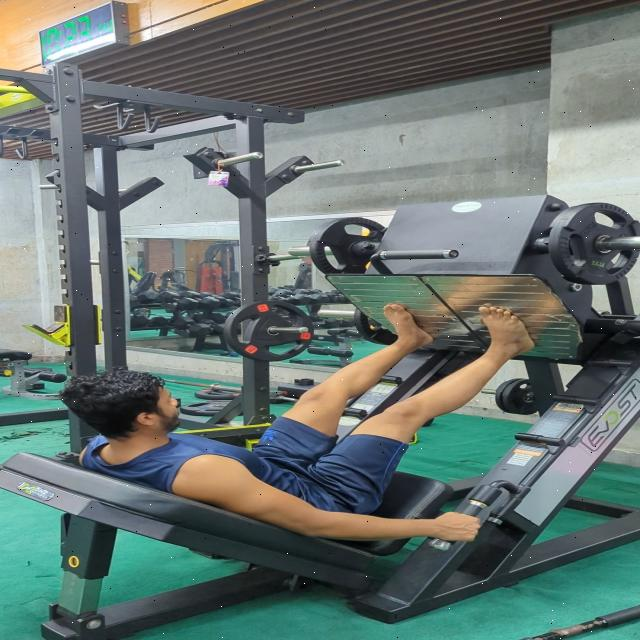Normal_LegPress: (48, 294, 548, 548)
